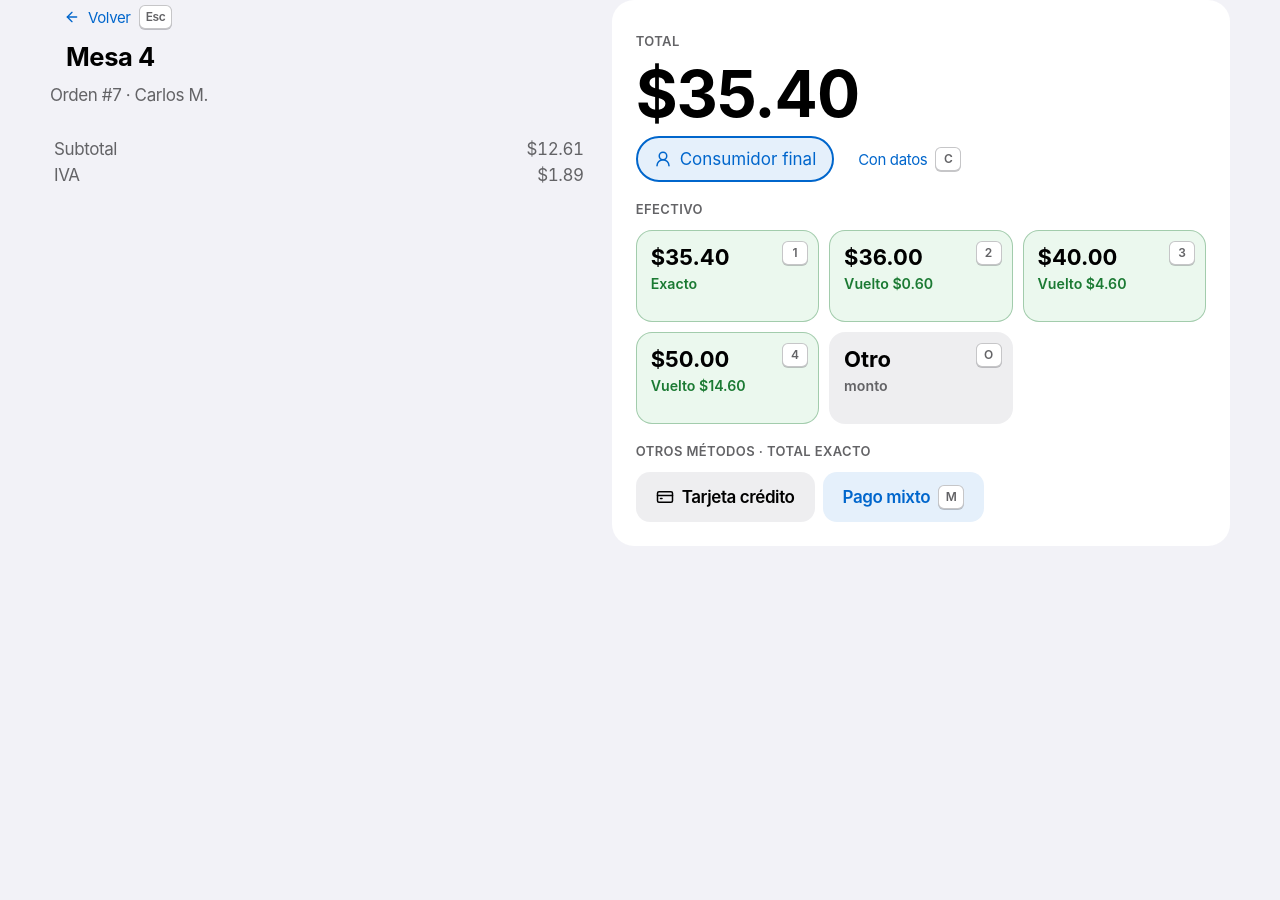
pago mixto › $20 en efectivo + el resto con tarjeta, con el voucher
Check: the button with test id "pago-mixto" is enabled, box left=822, top=472, right=984, bottom=522
Step 1. Press m
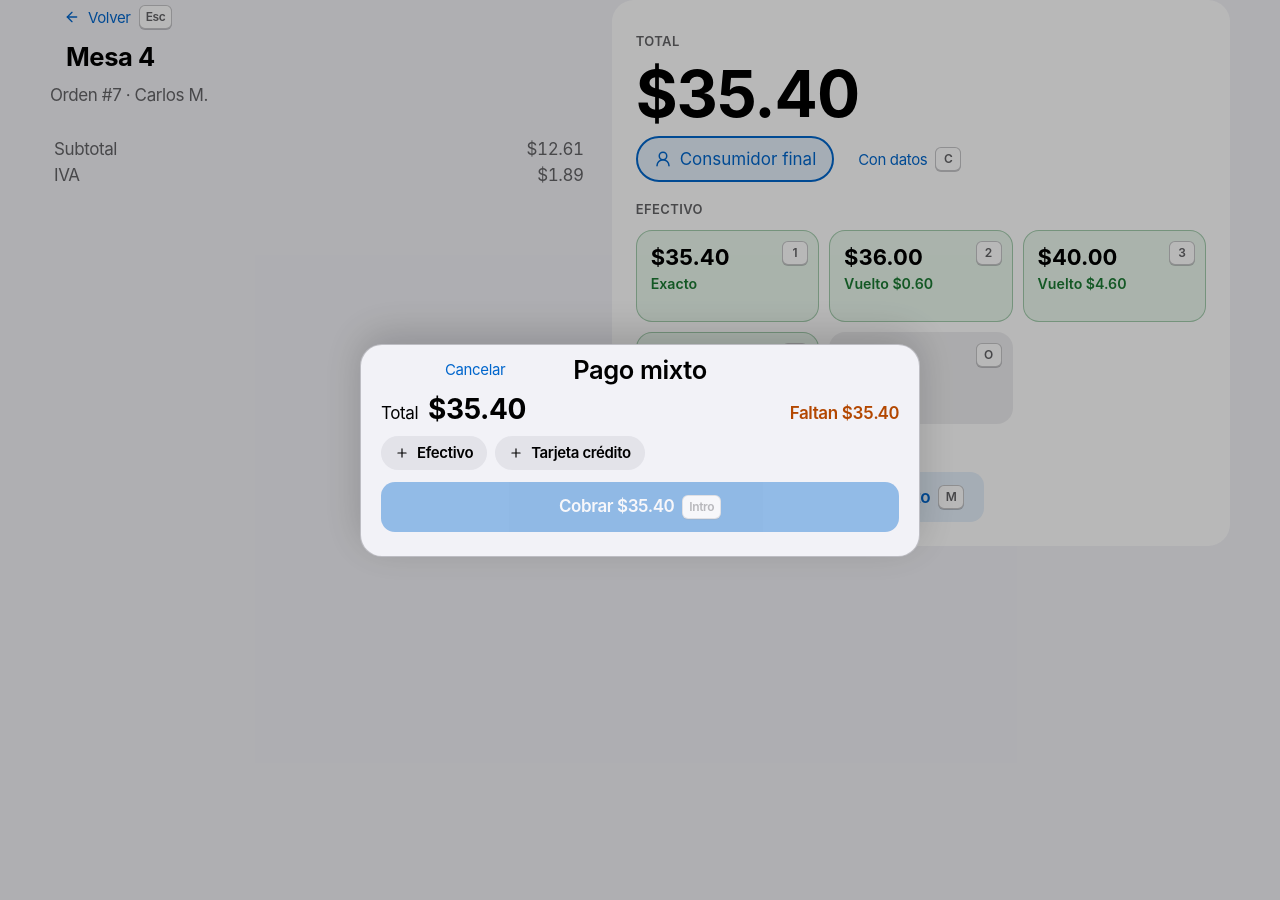
Step 2. Click the button with test id "agregar-Efectivo" → click(434, 452), box left=381, top=436, right=487, bottom=470
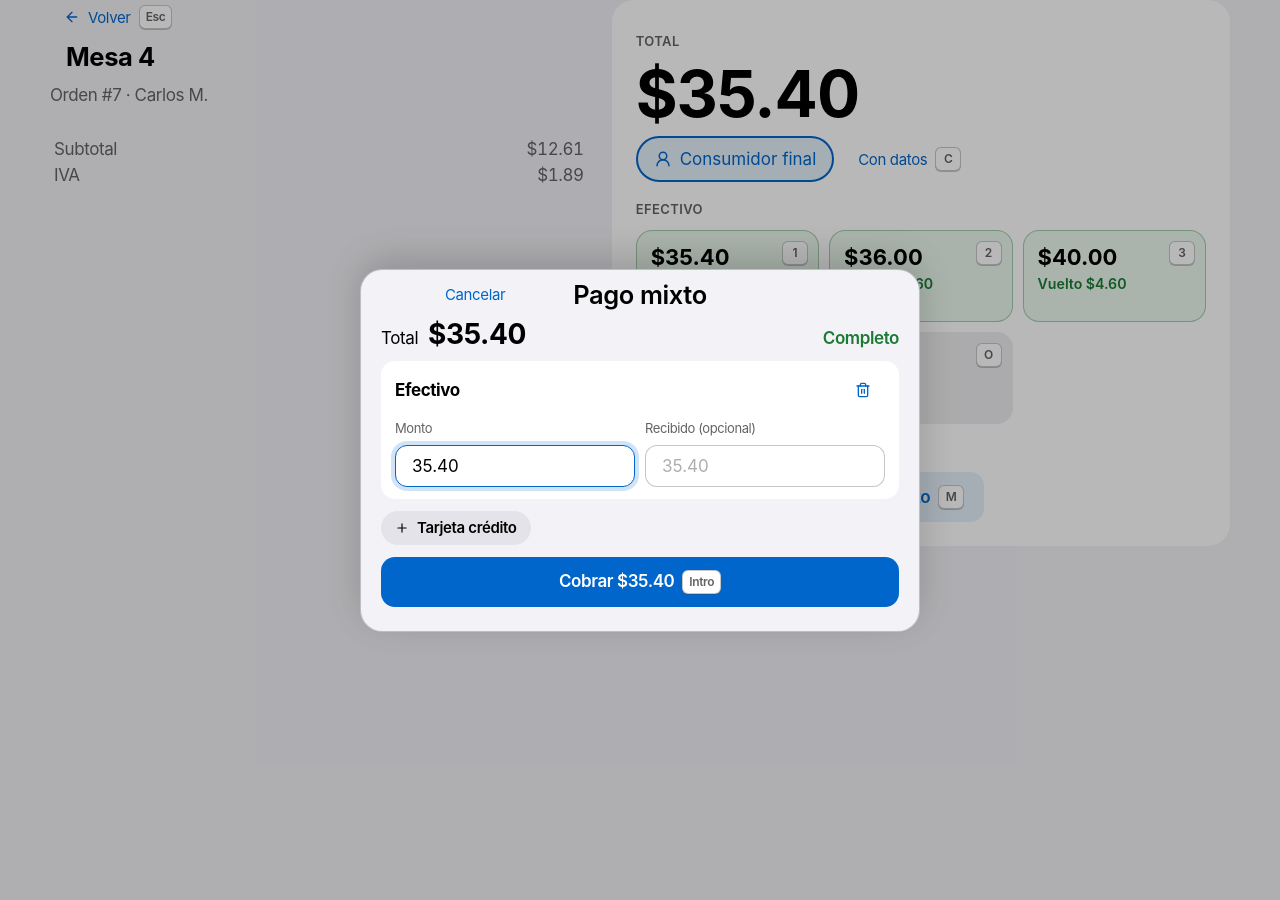
Step 3. Replace the text in the field named "Monto de Efectivo" with "20" → (515, 466), box left=395, top=444, right=635, bottom=486
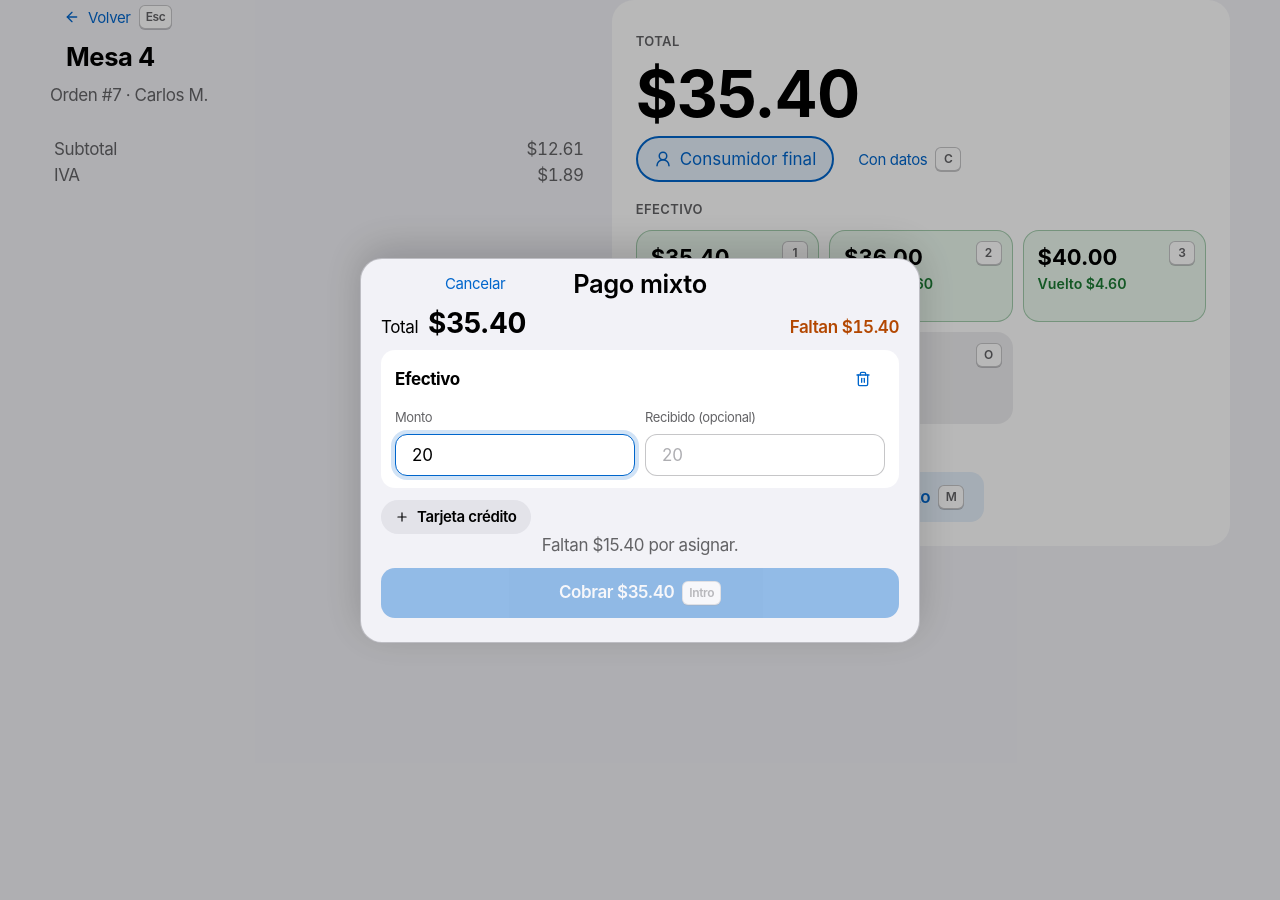
Step 4. Click the button with test id "agregar-Tarjeta crédito" → click(456, 516), box left=381, top=500, right=531, bottom=534
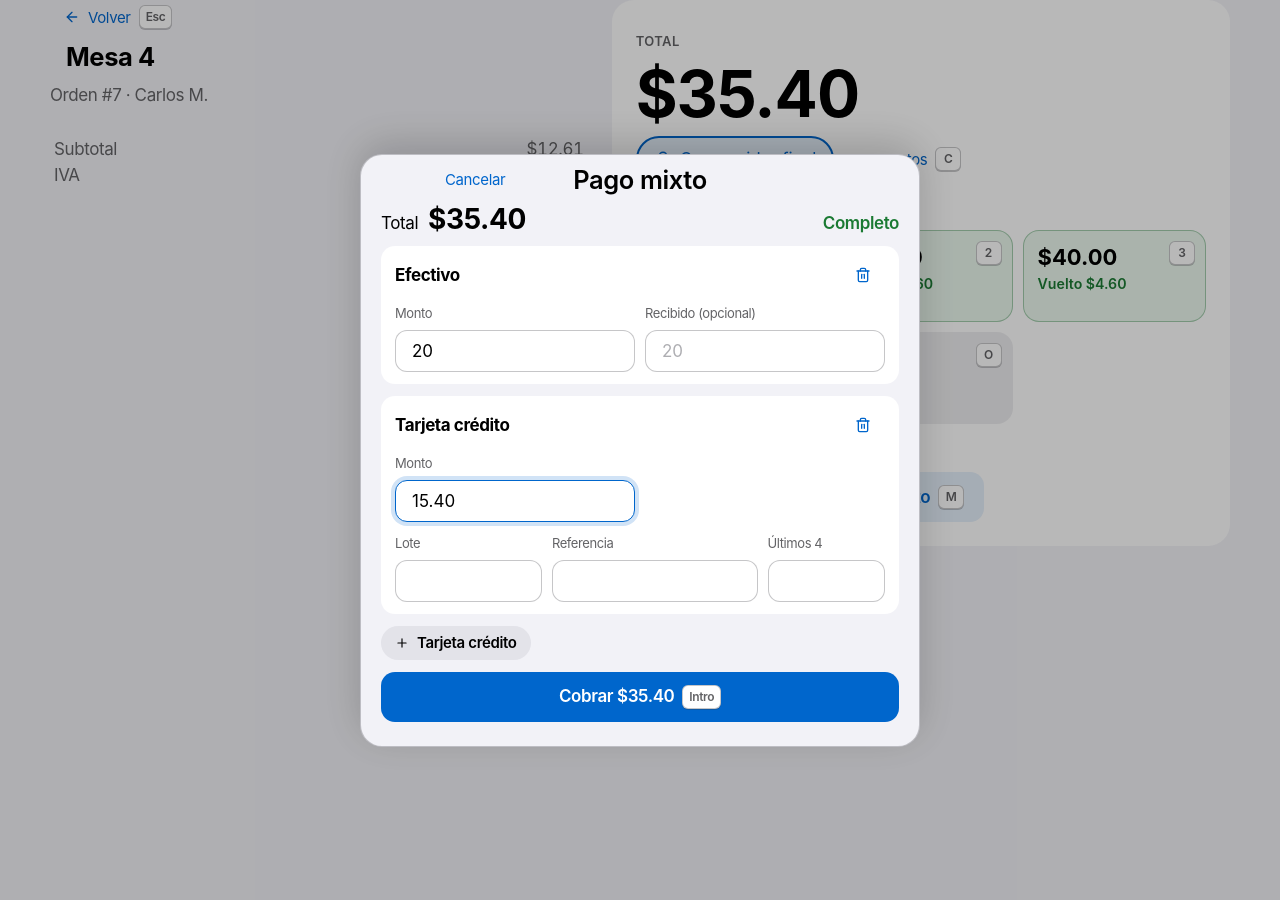
Check: the field named "Monto de Tarjeta crédito" holds "15.40", box left=395, top=480, right=635, bottom=522
Check: the text with test id "restante" reads "Completo", box left=823, top=212, right=899, bottom=232
Step 5. Type "48-21" into the field labelled "Últimos 4" → (826, 580), box left=768, top=560, right=885, bottom=602
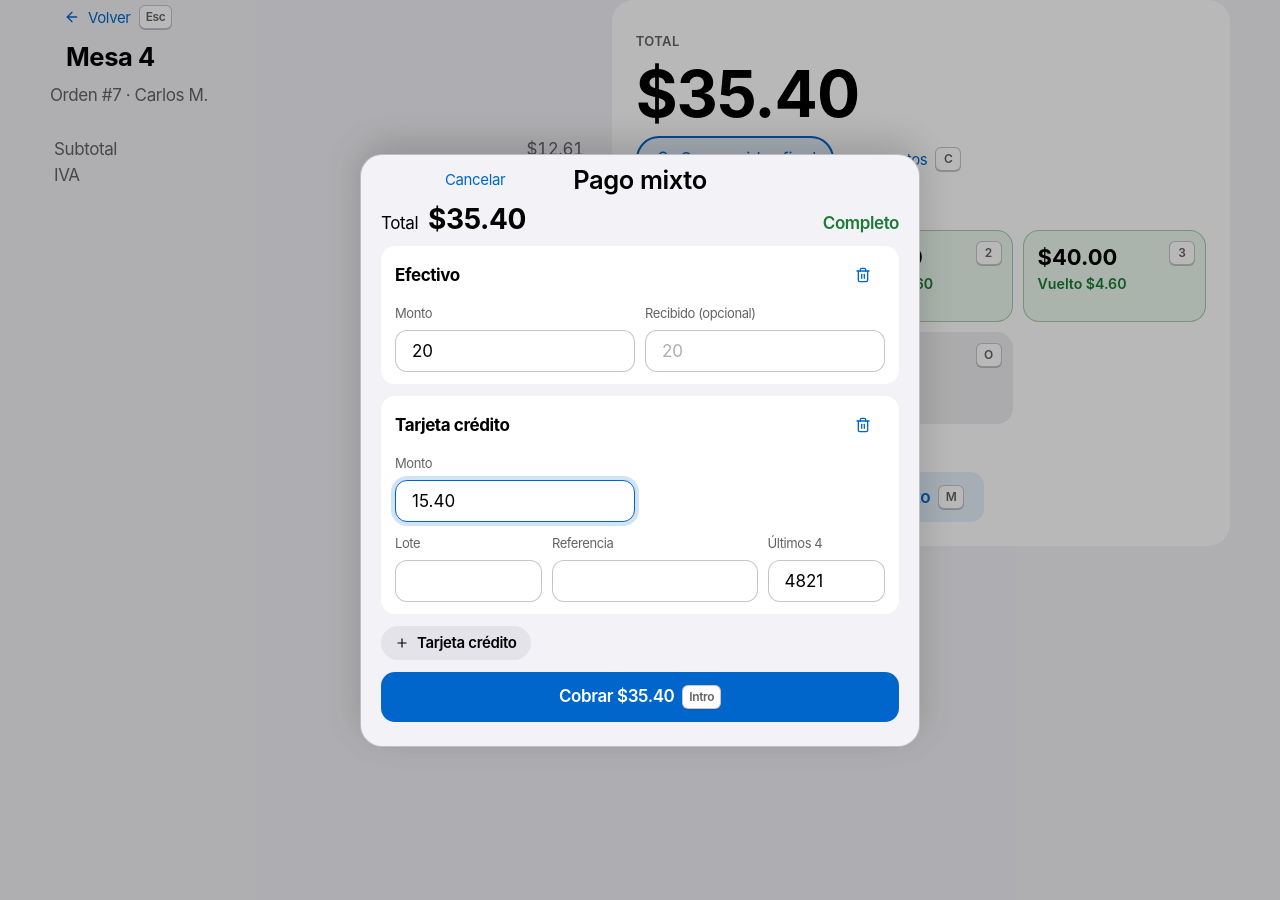
Step 6. Click the button with test id "cobrar-mixto" → click(640, 696), box left=381, top=672, right=899, bottom=722
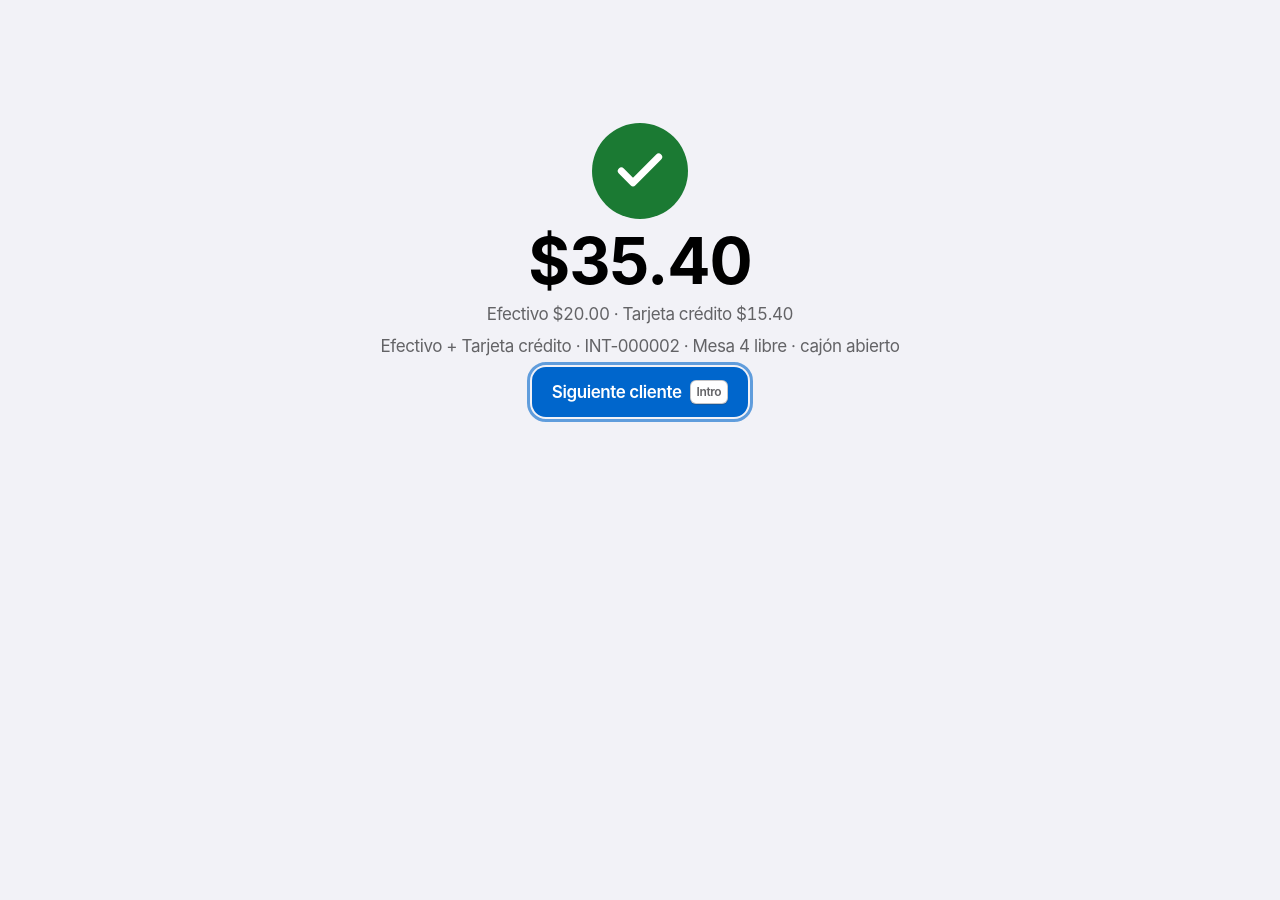
Check: the text with test id "detalle-pagos" reads "Efectivo $20.00 · Tarjeta crédito $15.40", box left=487, top=304, right=793, bottom=324
